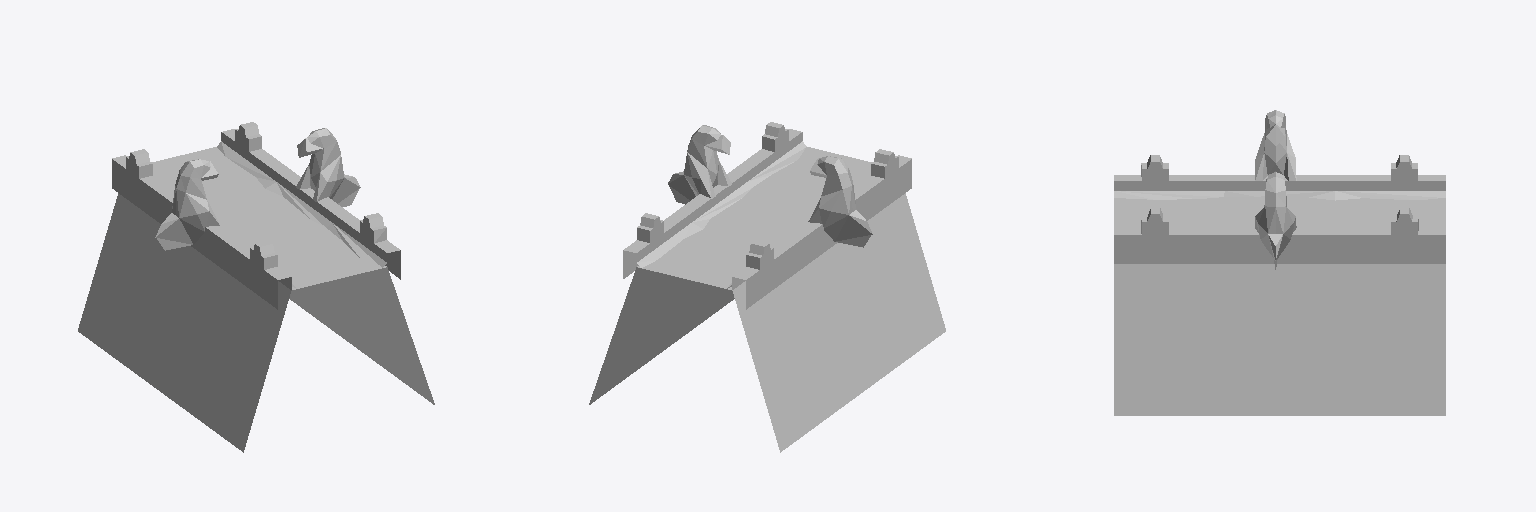
The model's file is templeStraightFlameTowerHighVert_prefab.obj.
The picture shows the model from 3 angles: view 1: azimuth 30°, elevation 25°; view 2: azimuth 150°, elevation 25°; view 3: azimuth 270°, elevation 25°; orthographic projection.
Visible parts, largest first — view 1: Object209-Pivot; view 2: Object209-Pivot; view 3: Object209-Pivot.
Boxes of the visible parts, <box> form: Object209-Pivot: <box>78,122,434,452</box>; Object209-Pivot: <box>589,122,945,452</box>; Object209-Pivot: <box>1114,110,1445,415</box>.
Bounding box in the file's own units: 42.81 × 44.9 × 60.